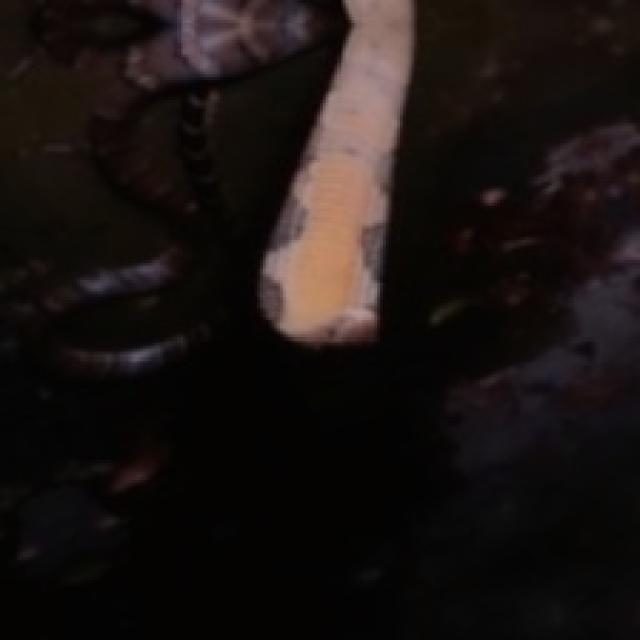king cobra: (0, 0, 343, 377)
